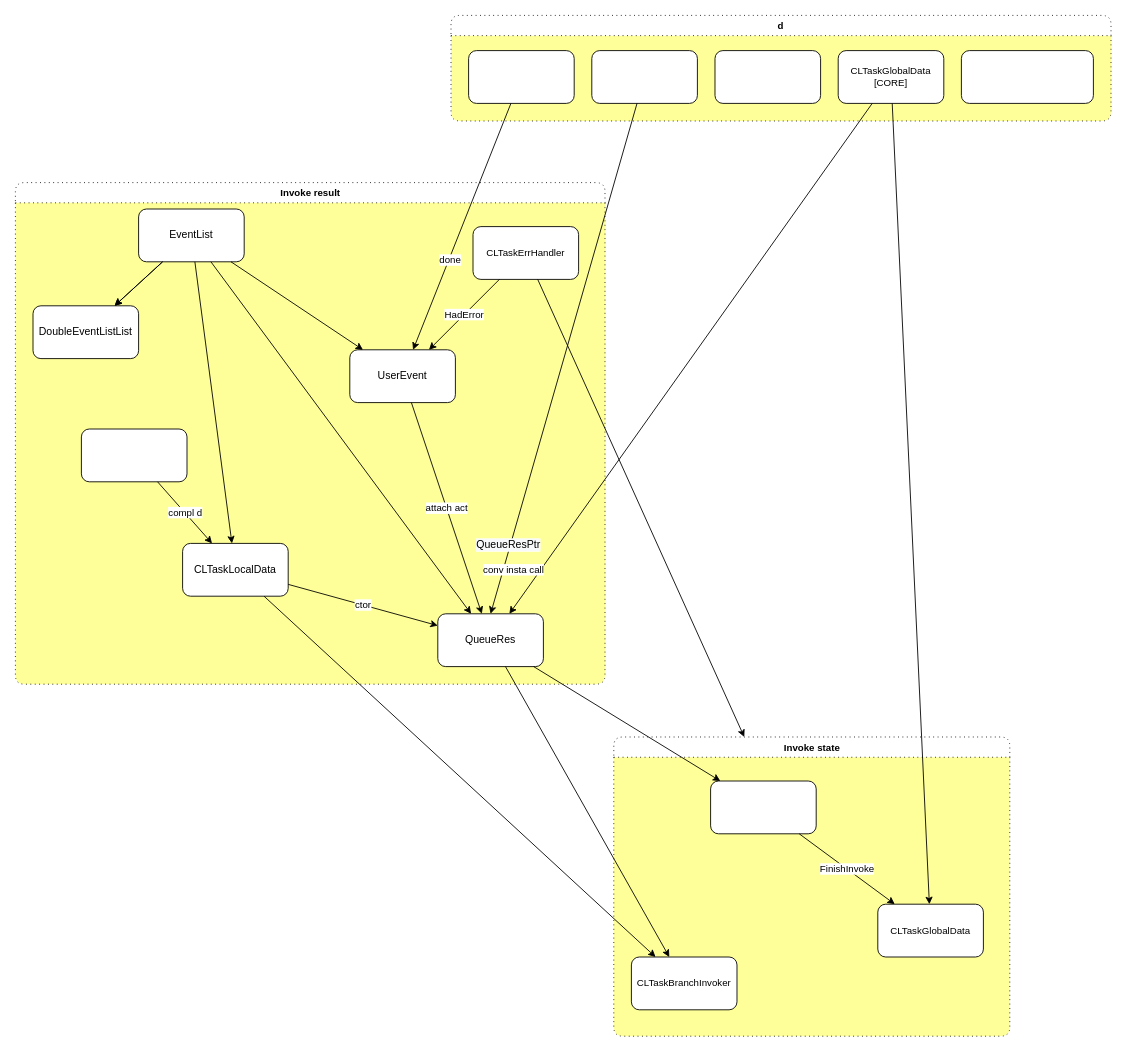
Image size: 1126x1052. Some labels were removed from this diagram. Here are the shapes that lost their labels. From the top down, the centre of each, then its label:
the point at 521,76: InterlockedBoolean
the point at 644,76: Blittable
the point at 767,76: CLTaskParameterData
the point at 1027,76: SimpleDelegateContainer
the point at 134,455: QueueResAction
the point at 763,807: MultiuseableResultData
